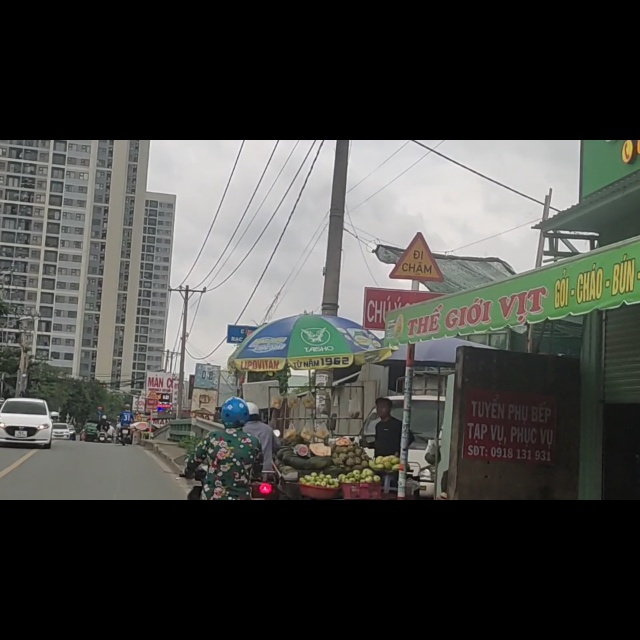bien_nguy_hiem: (387, 159, 449, 254)
